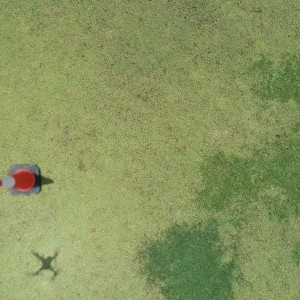traffic cone: (1, 164, 39, 194)
